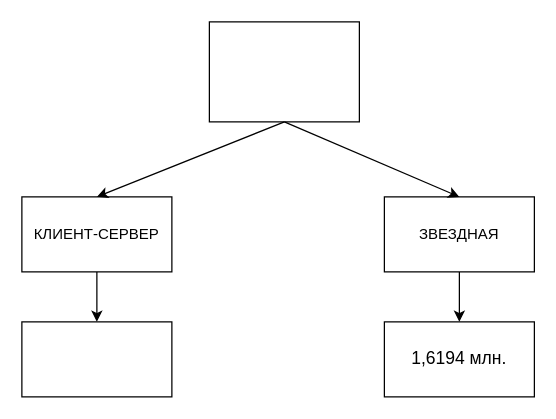
This 556x419 diagram has some shape labels left out. The shapes that lost their labels are listed below. From the top down, each one's centre as x and y in pixels, then its label:
the point at 283,71: ВЫБОР АРХИТЕКТУРЫ
the point at 96,359: 1,5154 млн.
